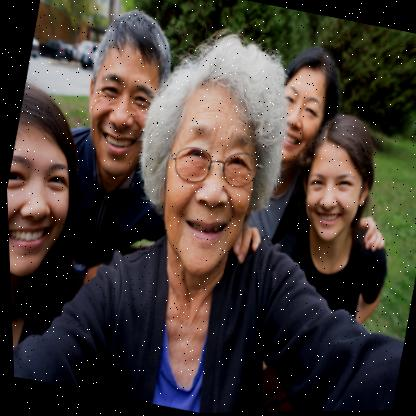person: (130, 30, 304, 289), (71, 4, 184, 184), (3, 80, 96, 282), (288, 109, 388, 266), (262, 43, 347, 187)
